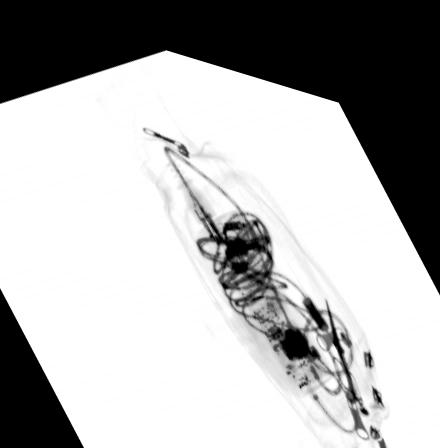Scissors: (326, 275, 364, 386)
